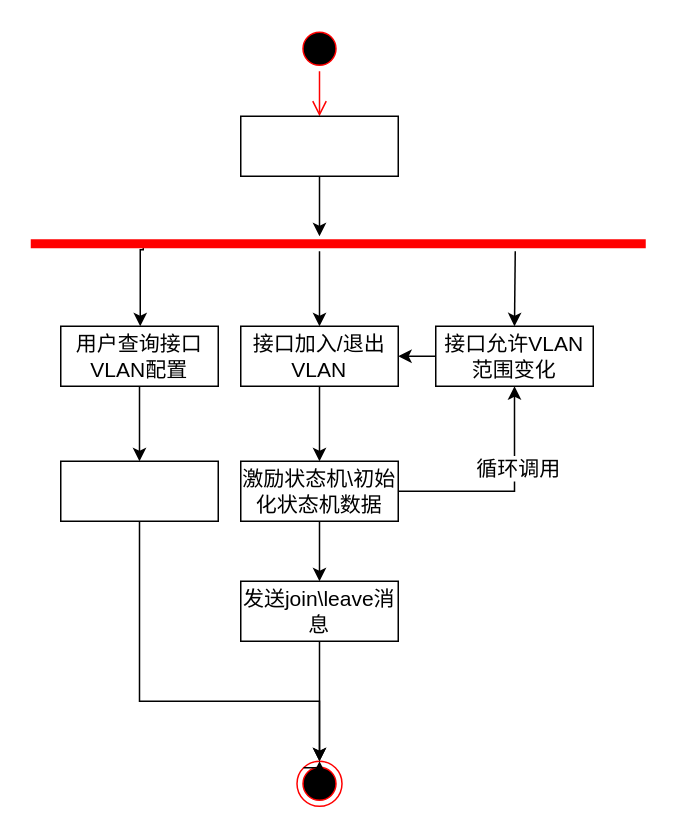
Image size: 675x833. Some labels were removed from this diagram. Here are the shapes that lost their labels. From the top down, the box of each, then its label:
(239, 115, 398, 176): 外界输入
(59, 460, 218, 521): 返回接口VLAN配置数据
